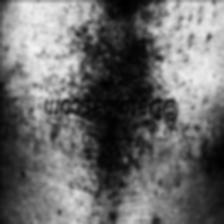Non-Cancerous Skin Condition: (58, 0, 162, 92), (54, 124, 154, 204)
